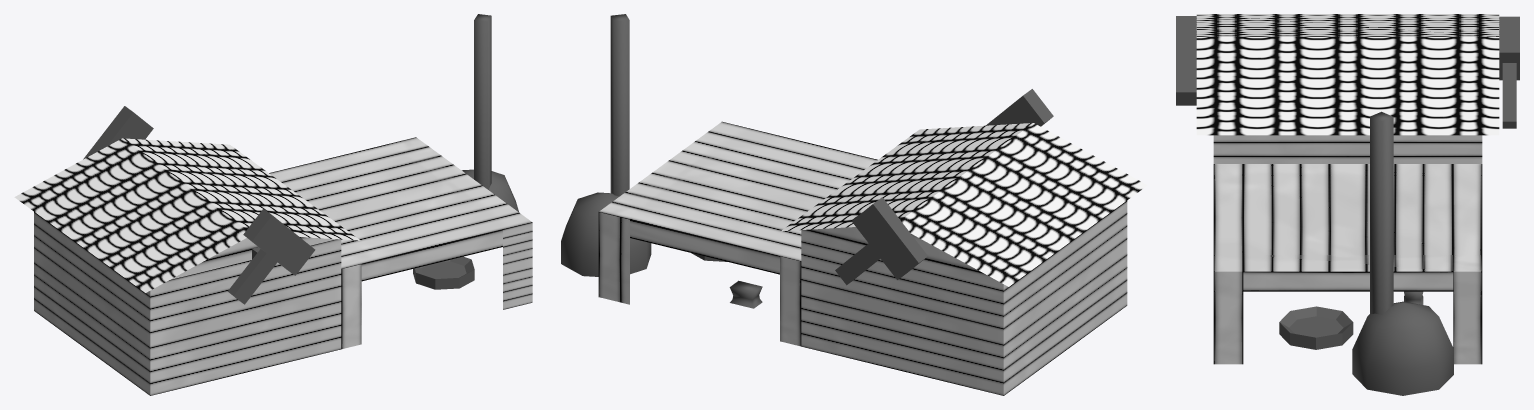
Rendered from gongon_weaonshop.fbx.
3 renders of one model, left to right at view 1: azimuth 30°, elevation 25°; view 2: azimuth 150°, elevation 25°; view 3: azimuth 270°, elevation 25°, orthographic. The views are drawn at different scales.
Visible parts, largest first — view 1: WS_body, WS_Top, WorkSpace, WS_tools, WS_icon; view 2: WS_body, WS_Top, WorkSpace, WS_tools, WS_icon; view 3: WS_Top, WorkSpace, WS_tools, WS_body, WS_icon.
Part boxes in pixels (bbox=[...]): WS_body: bbox=[34, 212, 341, 395]; WS_Top: bbox=[14, 138, 360, 292]; WorkSpace: bbox=[269, 137, 532, 349]; WS_tools: bbox=[413, 14, 518, 289]; WS_icon: bbox=[83, 106, 315, 304]; WS_body: bbox=[801, 200, 1127, 395]; WS_Top: bbox=[781, 123, 1147, 286]; WorkSpace: bbox=[598, 121, 877, 346]; WS_tools: bbox=[561, 14, 762, 308]; WS_icon: bbox=[835, 89, 1053, 285]; WS_Top: bbox=[1196, 14, 1499, 135]; WorkSpace: bbox=[1213, 164, 1482, 364]; WS_tools: bbox=[1279, 111, 1453, 395]; WS_body: bbox=[1213, 135, 1482, 163]; WS_icon: bbox=[1176, 16, 1519, 128].
Bounding box in the file's own units: 2890 × 1359 × 1623.
